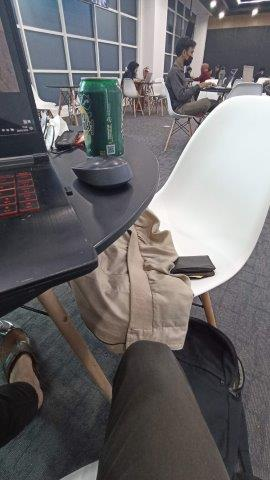kaleng: (79, 77, 125, 157)
